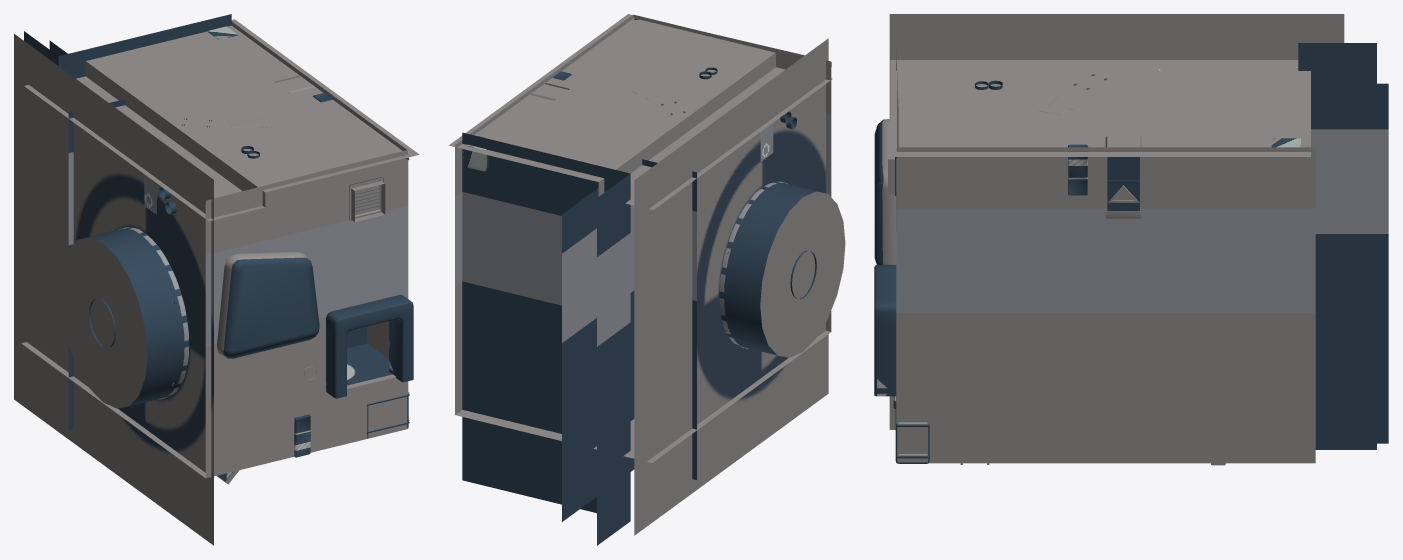
File: StaffRoom.fbx
The picture shows the model from 3 angles, left to right: view 1: azimuth 30°, elevation 25°; view 2: azimuth 150°, elevation 25°; view 3: azimuth 270°, elevation 25°; orthographic projection. The views are drawn at different scales.
Parts seen in each view (by area): view 1: SM_SR_ventillateur, SM_SR_fondation_01, SM_SR_fondation_05, SM_SR_horloge, SM_SR_Door, SM_SR_fondation_03, SM_SR_fondation_02, SM_SR_fondation_04, SM_SR_Vent, SM_SR_Locker; view 2: SM_SR_ventillateur, SM_SR_fondation_03, SM_SR_fondation_05, SM_SR_fondation_04, SM_SR_fondation_01, SM_SR_four; view 3: SM_SR_fondation_01, SM_SR_fondation_05, SM_SR_fondation_04, SM_SR_ventillateur, SM_SR_fondation_03, SM_SR_Door, SM_SR_horloge, SM_SR_toilets, SM_SR_casier_fermer.
Part boxes in pixels (bbox=[...]): SM_SR_ventillateur: bbox=[14, 34, 213, 545]; SM_SR_fondation_01: bbox=[21, 22, 408, 478]; SM_SR_fondation_05: bbox=[24, 19, 419, 221]; SM_SR_horloge: bbox=[217, 252, 319, 358]; SM_SR_Door: bbox=[326, 294, 413, 398]; SM_SR_fondation_03: bbox=[24, 14, 231, 78]; SM_SR_fondation_02: bbox=[216, 326, 392, 484]; SM_SR_fondation_04: bbox=[49, 40, 124, 429]; SM_SR_Vent: bbox=[349, 177, 383, 220]; SM_SR_Locker: bbox=[294, 414, 310, 457]; SM_SR_ventillateur: bbox=[634, 38, 845, 535]; SM_SR_fondation_03: bbox=[462, 132, 630, 545]; SM_SR_fondation_05: bbox=[449, 14, 832, 210]; SM_SR_fondation_04: bbox=[562, 159, 696, 521]; SM_SR_fondation_01: bbox=[455, 14, 831, 462]; SM_SR_four: bbox=[463, 136, 496, 171]; SM_SR_fondation_01: bbox=[888, 41, 1315, 463]; SM_SR_fondation_05: bbox=[890, 60, 1310, 156]; SM_SR_fondation_04: bbox=[1311, 83, 1388, 443]; SM_SR_ventillateur: bbox=[889, 14, 1344, 429]; SM_SR_fondation_03: bbox=[1298, 43, 1376, 449]; SM_SR_Door: bbox=[874, 265, 896, 396]; SM_SR_horloge: bbox=[874, 119, 896, 264]; SM_SR_toilets: bbox=[1105, 136, 1141, 218]; SM_SR_casier_fermer: bbox=[1068, 144, 1088, 195].
Size of the model in its own units: 2297 by 3267 by 3604.
